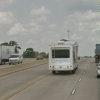Bus: (46, 38, 79, 78)
